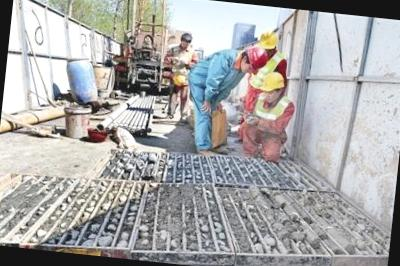no_helmet: (178, 32, 194, 49)
person: (180, 40, 266, 160), (236, 70, 298, 162), (157, 28, 202, 125), (254, 30, 292, 77)
